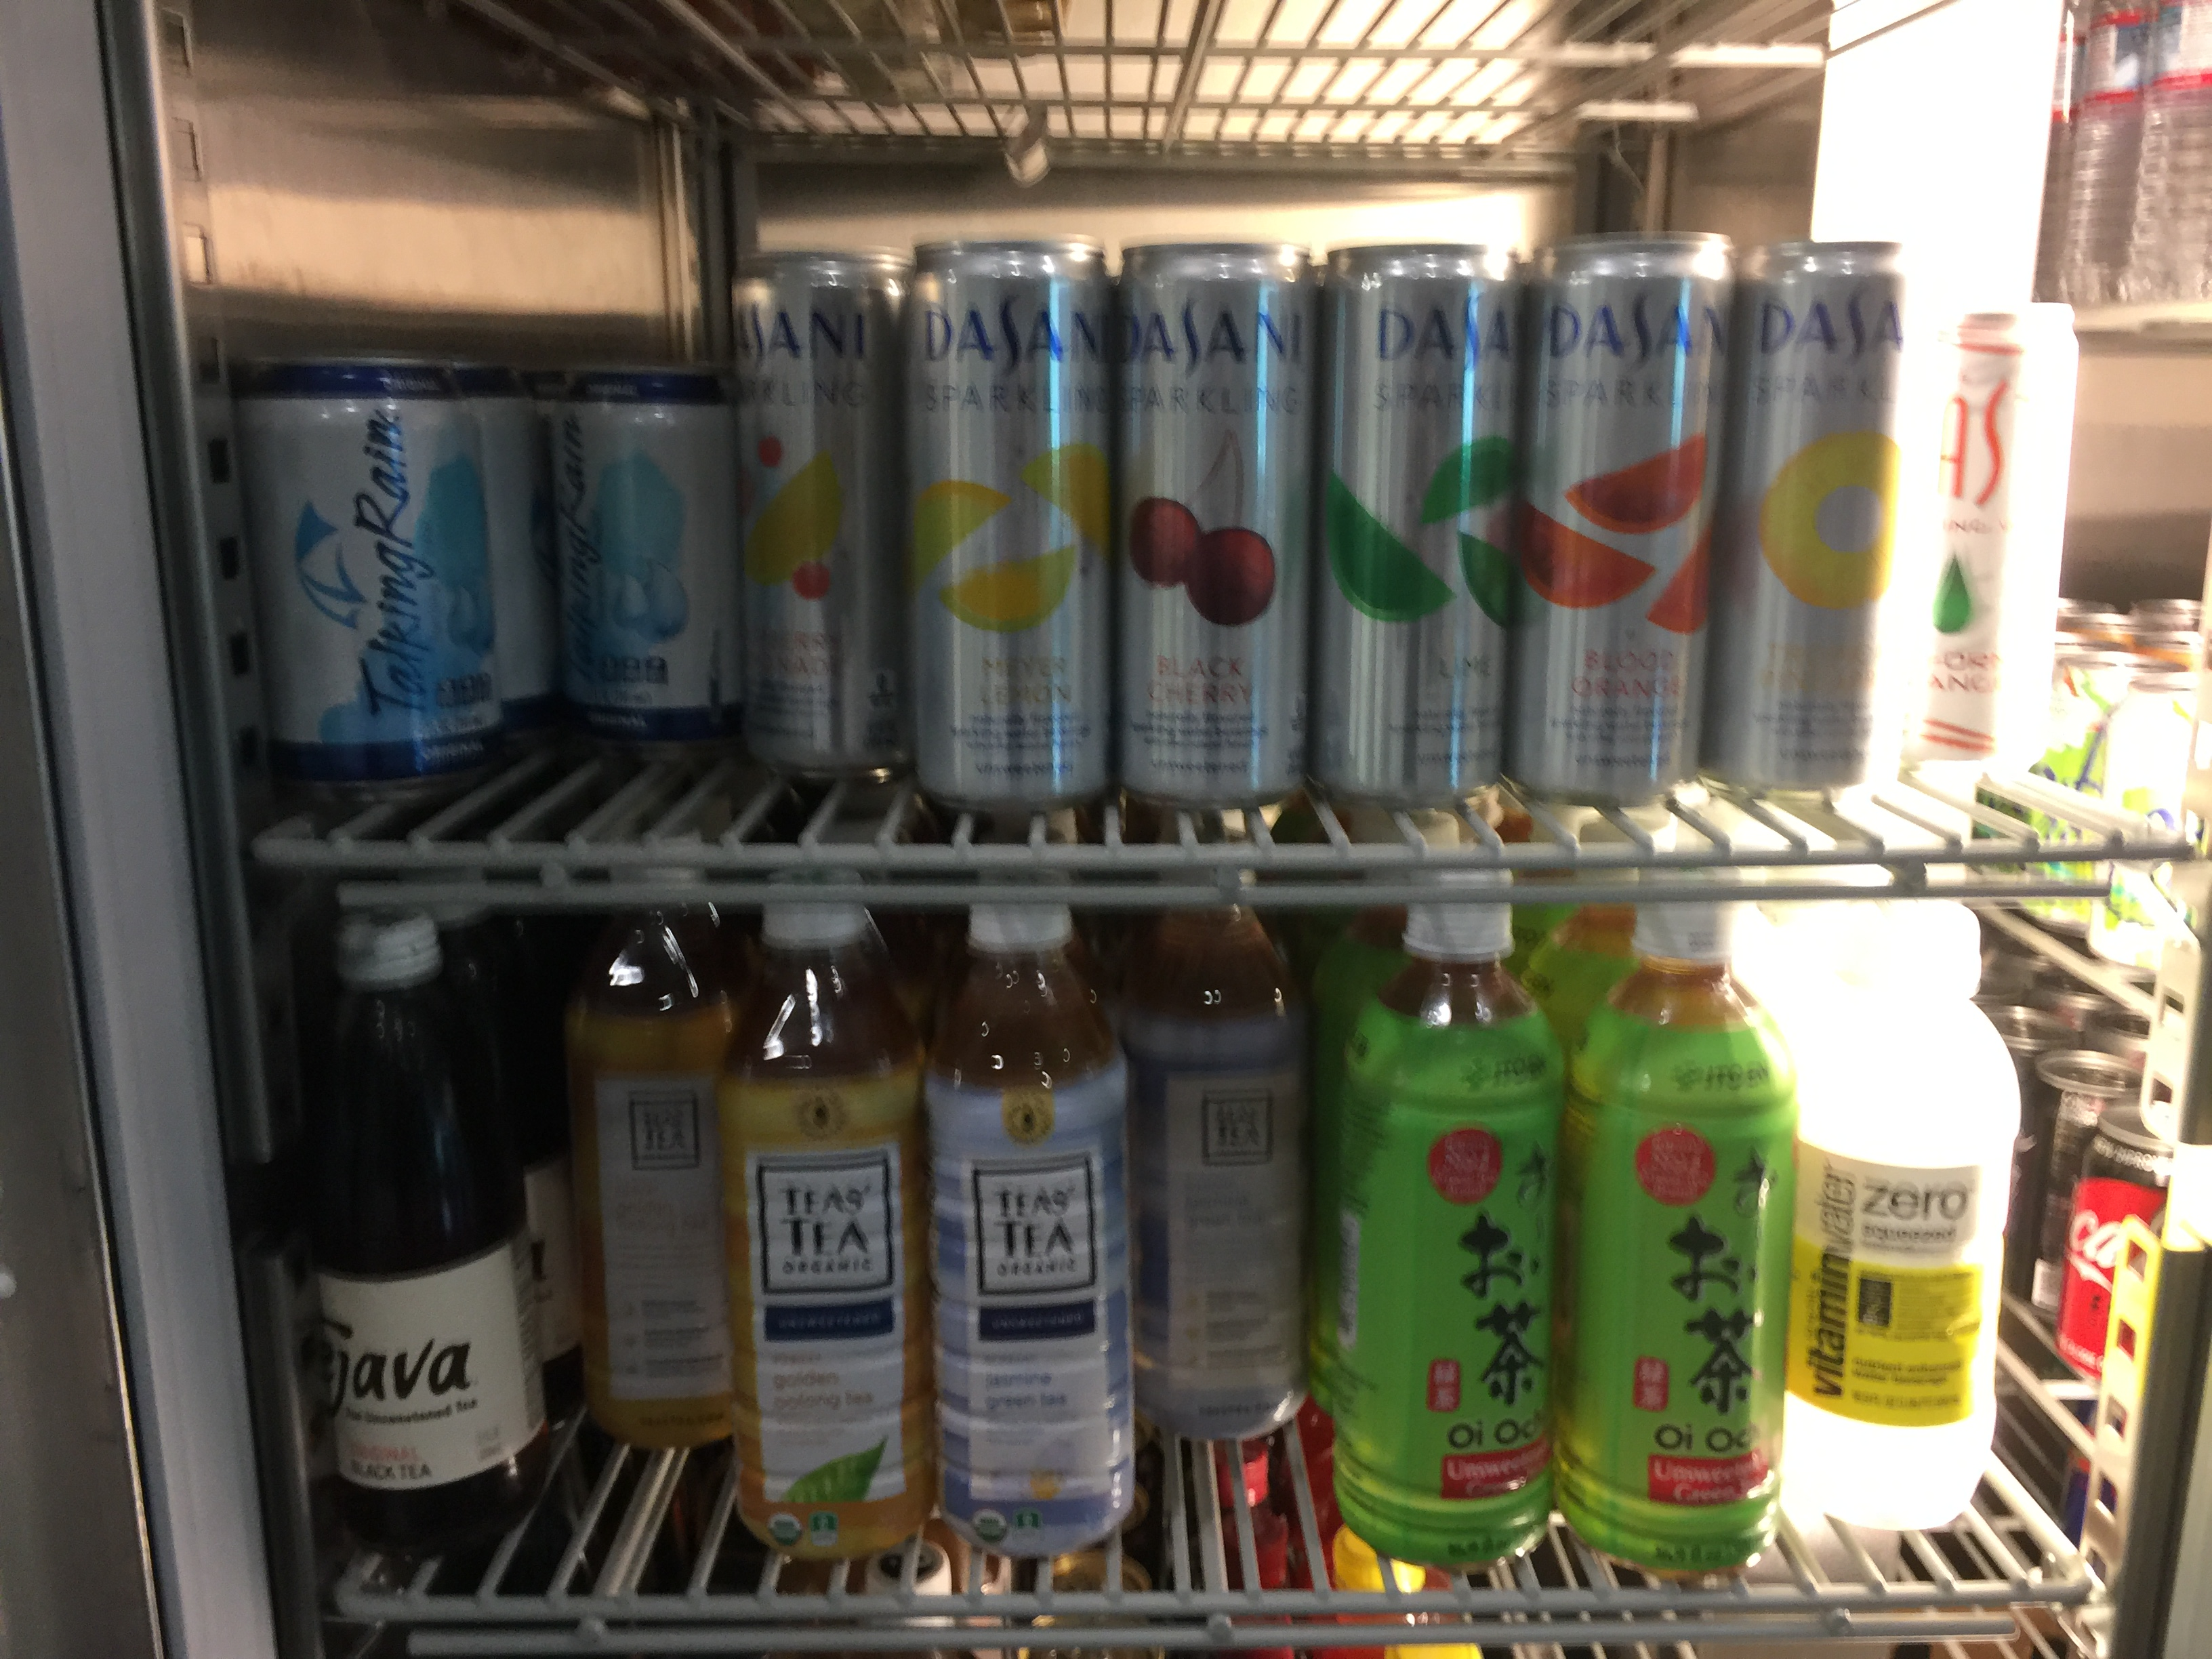blackcherry: (1130, 425, 1290, 717)
competitor_01: (1957, 321, 2045, 724)
competitor_02: (260, 391, 489, 743), (552, 393, 716, 704)
lemon: (912, 428, 1107, 724)
lemonade: (747, 422, 883, 686)
lime: (1324, 422, 1516, 743)
orange: (1532, 419, 1706, 745)
pineapple: (1743, 415, 1883, 735)
